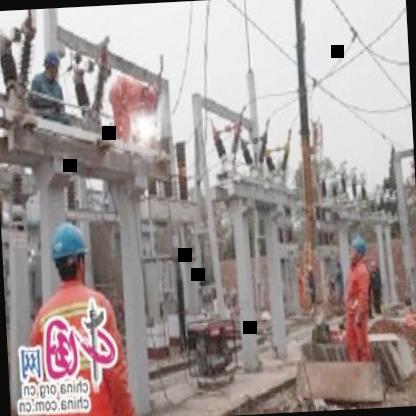helmet: (46, 216, 90, 287), (40, 46, 64, 81), (344, 233, 368, 264)
